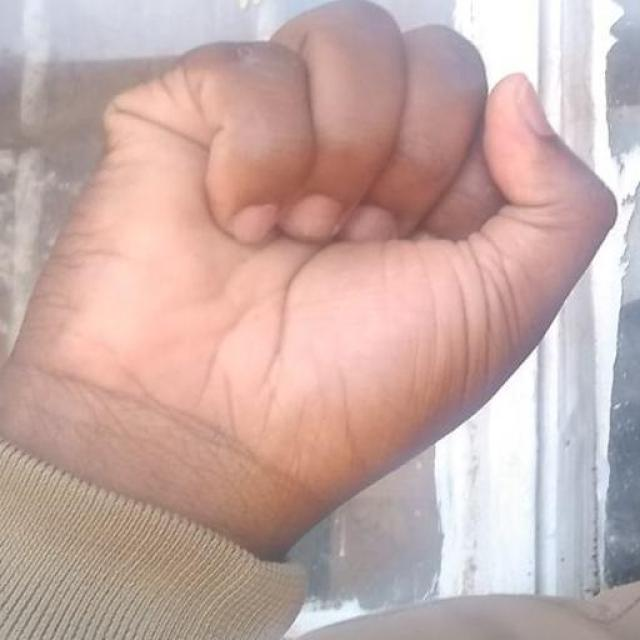hand: (0, 0, 619, 561)
